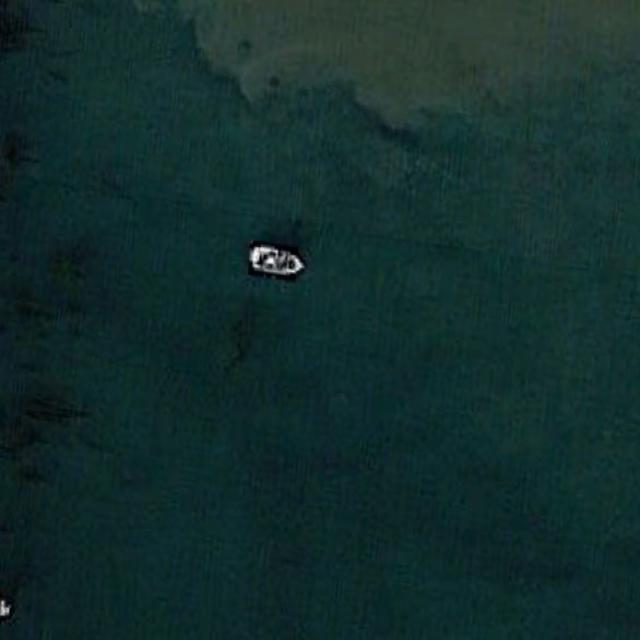boat: (248, 245, 306, 278)
